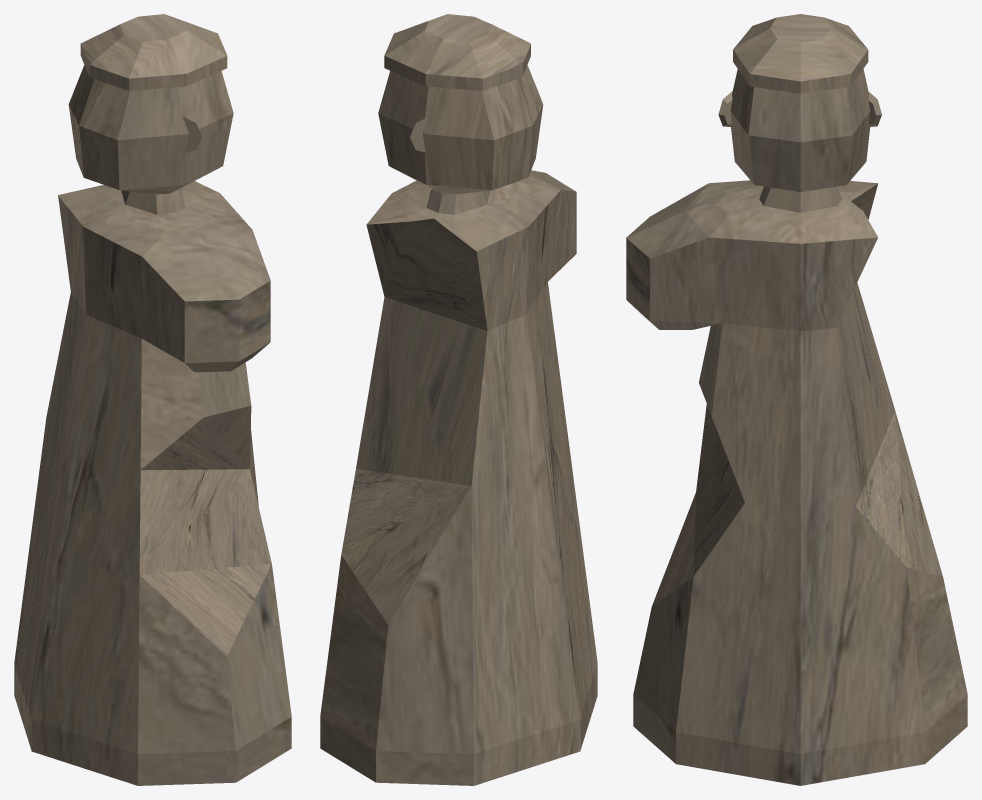
Rendered from Statue11.fbx.
3 views of the same model, side by side, from view 1: azimuth 30°, elevation 25°; view 2: azimuth 150°, elevation 25°; view 3: azimuth 270°, elevation 25° (orthographic).
Visible parts, largest first — view 1: Circle; view 2: Circle; view 3: Circle, Circle.001.
Boxes of the visible parts, x1=… form: Circle: x1=14, y1=14, x2=291, y2=785; Circle: x1=320, y1=14, x2=597, y2=785; Circle: x1=626, y1=14, x2=967, y2=785; Circle.001: x1=718, y1=91, x2=881, y2=126.
Size of the model in its own units: 71.9 by 197 by 87.12.
